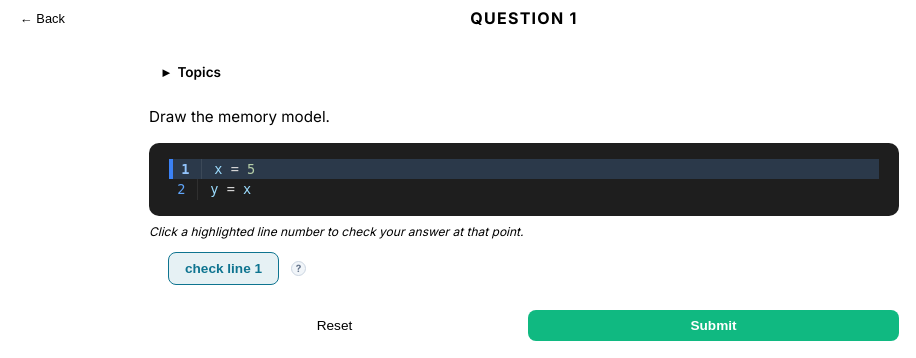
Test: QuestionTab component › moves to the next line automatically after a successful line check
The image size is (916, 358).
Expected: the text "Draw the memory model." is shown, [149,107,330,126]
Click the button with aria-label "check answer at line 1": (224, 268) [168,252,279,284]
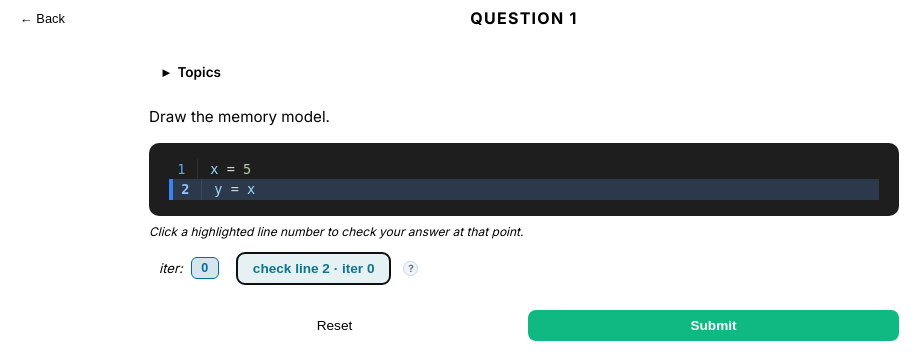
Expected: the button with aria-label "check answer at line 2" is shown, [236,252,392,284]
